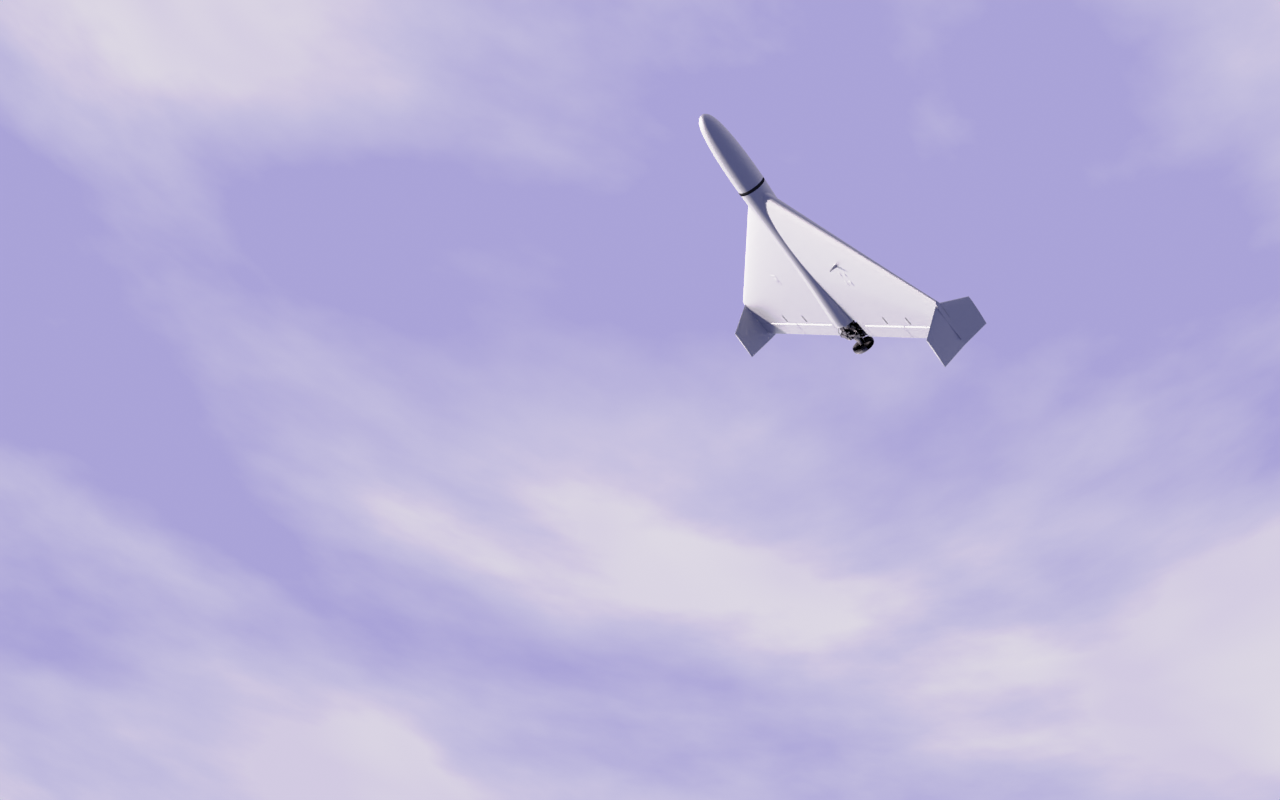shahed: (699, 114, 988, 369)
